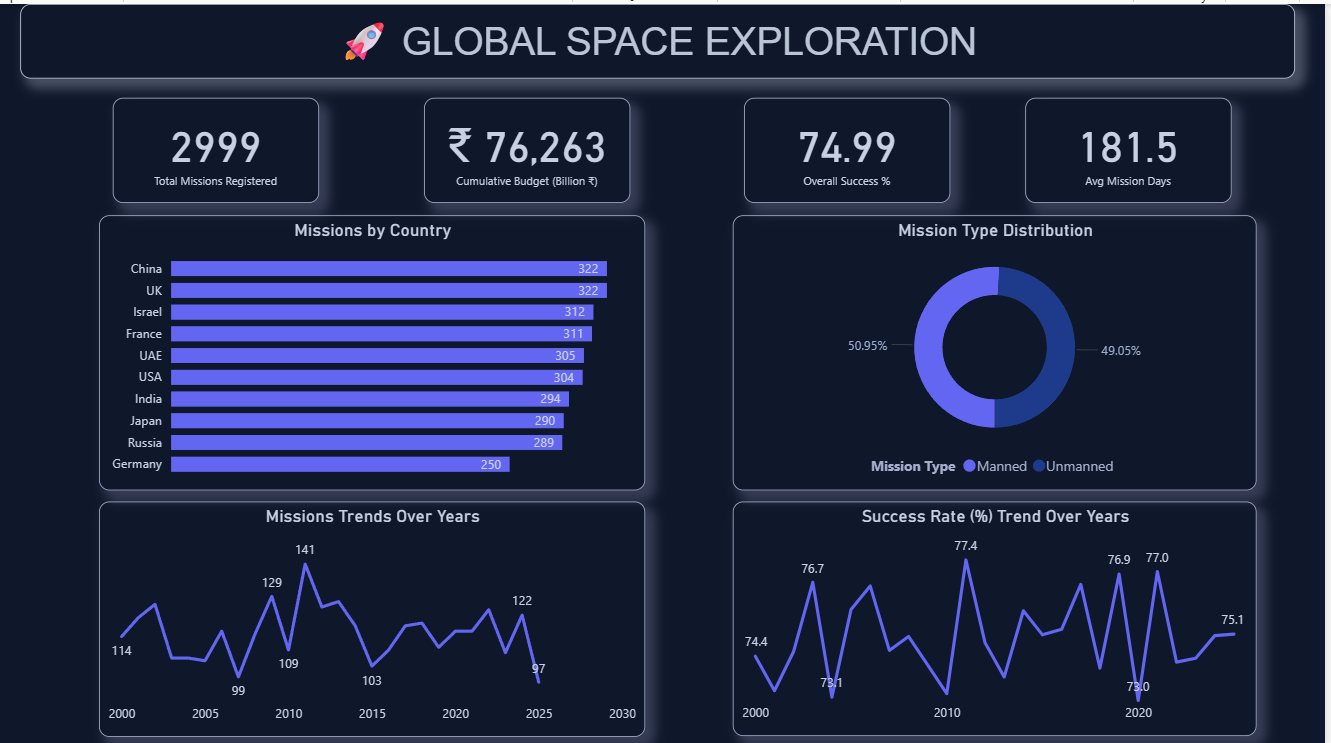

What the dashboard file says about the page in this screenshot:
{"tool":"powerbi","page":{"name":"Mission Overview","canvas":[1280,720],"ordinal":0},"visuals":[{"type":"textbox","box":[20.5,0,1230.6,72.4],"z":0},{"type":"card","fields":{"Values":["Space.Total_Missions"]},"box":[109.8,90.5,199.1,101.3],"z":1000},{"type":"card","fields":{"Values":["Space.Total_Budget"]},"box":[410.2,90.5,199.1,101.3],"z":2000},{"type":"card","fields":{"Values":["Space.Avg_Success_Rate"]},"box":[719,90.3,198.9,101.3],"z":3000},{"type":"card","fields":{"Values":["Space.Avg_Duration"]},"box":[990.4,90.3,198.9,101.3],"z":4000},{"type":"clusteredBarChart","title":"Missions by Country","fields":{"Category":["Space.Country"],"Y":["Space.Total_Missions"]},"box":[96.5,203.9,527.2,265.4],"z":5000},{"type":"donutChart","title":" Mission Type Distribution","fields":{"Category":["Space.Mission Type"],"Y":["Space.Total_Missions"]},"box":[707.9,203.8,505.9,265.2],"z":6000},{"type":"lineChart","title":"Missions Trends Over Years","fields":{"Y":["Space.Total_Missions"],"Category":["Space.Year"]},"box":[96.5,480.2,527.2,226.8],"z":7000},{"type":"lineChart","title":"Success Rate (%) Trend Over Years","fields":{"Category":["Space.Year"],"Y":["Space.Avg_Success_Rate"]},"box":[707.9,480.1,505.9,226.6],"z":8000}]}

Visuals, with their boxes in screenshot pixels (x1, y1, x2, y2), scaled from the page's 1280x720 canvas onto the 1331x743 screenshot:
textbox: (x1=21, y1=0, x2=1301, y2=75)
card - Space.Total_Missions: (x1=114, y1=93, x2=321, y2=198)
card - Space.Total_Budget: (x1=427, y1=93, x2=634, y2=198)
card - Space.Avg_Success_Rate: (x1=748, y1=93, x2=954, y2=198)
card - Space.Avg_Duration: (x1=1030, y1=93, x2=1237, y2=198)
"Missions by Country" clusteredBarChart: (x1=100, y1=210, x2=649, y2=484)
" Mission Type Distribution" donutChart: (x1=736, y1=210, x2=1262, y2=484)
"Missions Trends Over Years" lineChart: (x1=100, y1=496, x2=649, y2=730)
"Success Rate (%) Trend Over Years" lineChart: (x1=736, y1=495, x2=1262, y2=729)
